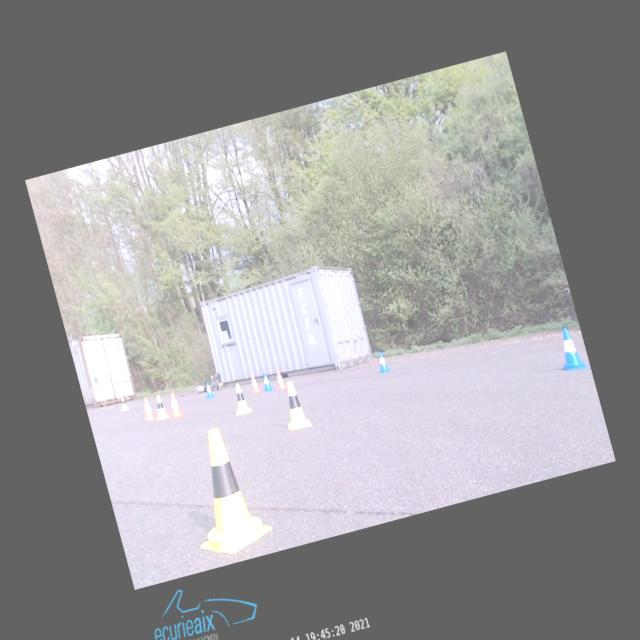blue_cone: (551, 324, 587, 373), (374, 351, 390, 374), (259, 370, 273, 391), (202, 380, 215, 398)
orange_cone: (164, 391, 183, 418), (139, 396, 156, 420), (247, 374, 260, 394), (273, 369, 286, 389)
yellow_cone: (172, 420, 276, 560), (276, 378, 312, 431), (227, 381, 251, 415), (151, 394, 169, 419), (116, 394, 128, 411)
